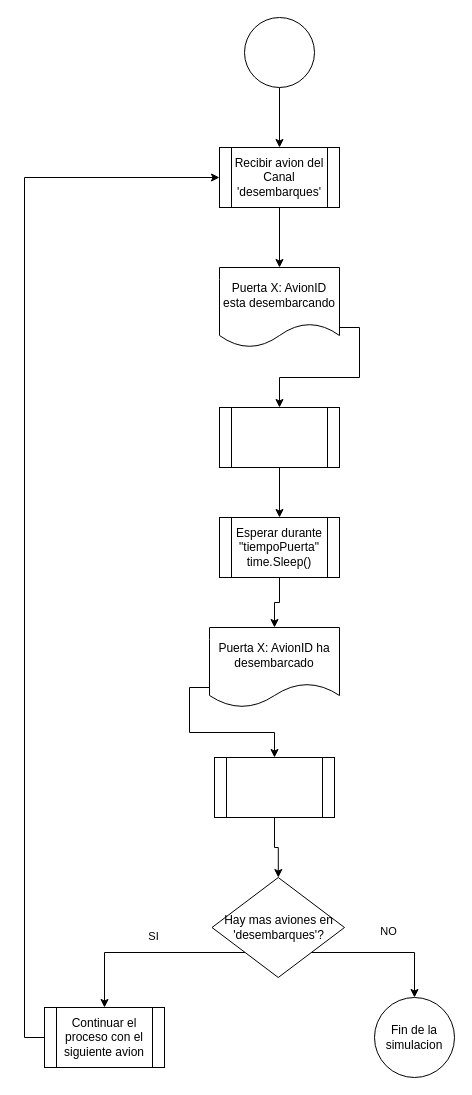
The diagram is 472 pixels wide and 1095 high, and some of its shapes have lost their labels. Here are the shapes that lost their labels. From the top down, the centre of each, then its label:
At (279,52): "Start".
At (279,437): "Calcular tiempo de puerta tiempoPuerta".
At (274,787): "Llamar a 'wg.Done'".
